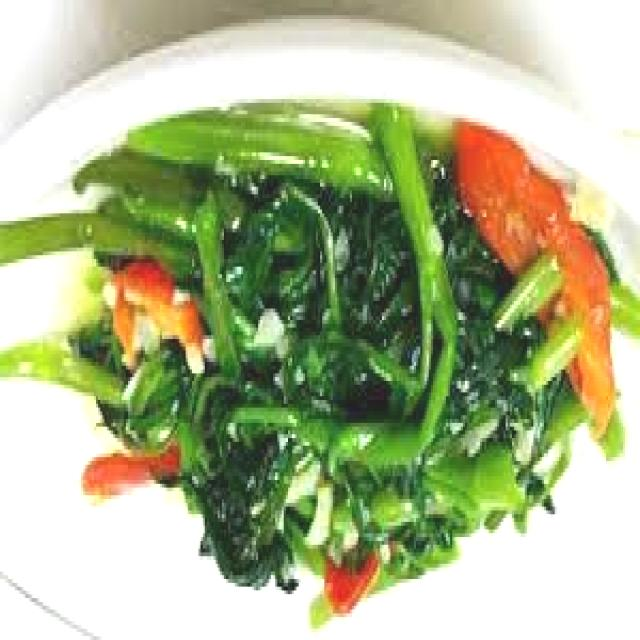tumis kangkung: (0, 95, 634, 629)
